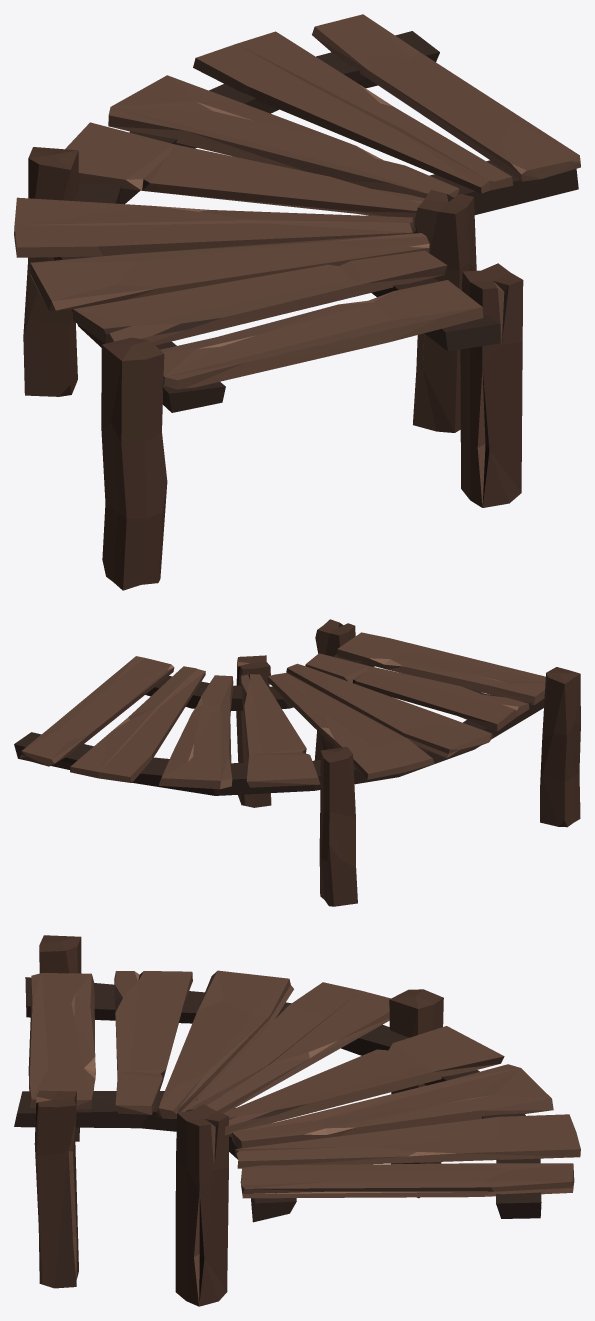
The model's file is DocksModuleCurve_01.glb.
The picture shows the model from 3 angles, top to bottom: view 1: azimuth 30°, elevation 25°; view 2: azimuth 150°, elevation 25°; view 3: azimuth 270°, elevation 25°; orthographic projection. The views are drawn at different scales.
Parts seen in each view (by area): view 1: DocksModuleCurve_01; view 2: DocksModuleCurve_01; view 3: DocksModuleCurve_01.
Part boxes in pixels (left/top/right/bottom): DocksModuleCurve_01: left=14, top=14, right=580, bottom=590; DocksModuleCurve_01: left=14, top=619, right=580, bottom=906; DocksModuleCurve_01: left=14, top=935, right=580, bottom=1306.
Size of what is drawn, in the model's own units: 2.68 by 1.03 by 2.68.
Materials: 1 (1 with a texture image).
